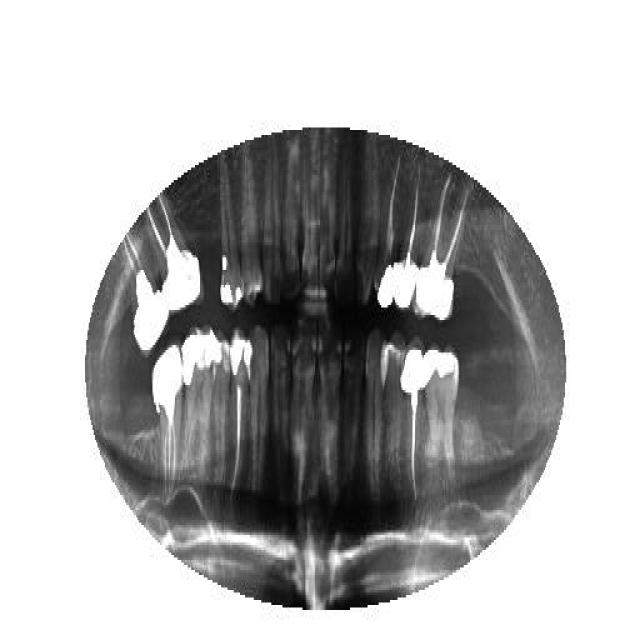Fillings: (184, 328, 216, 478), (422, 348, 458, 478), (220, 150, 245, 312)
Implant: (416, 175, 470, 320), (148, 195, 202, 315), (151, 340, 184, 508), (122, 235, 168, 355), (396, 345, 425, 505), (372, 158, 402, 310), (232, 328, 252, 508), (396, 180, 422, 318)
